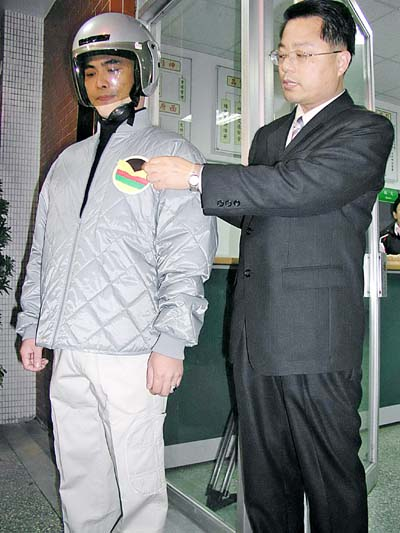helmet: (61, 18, 160, 89)
